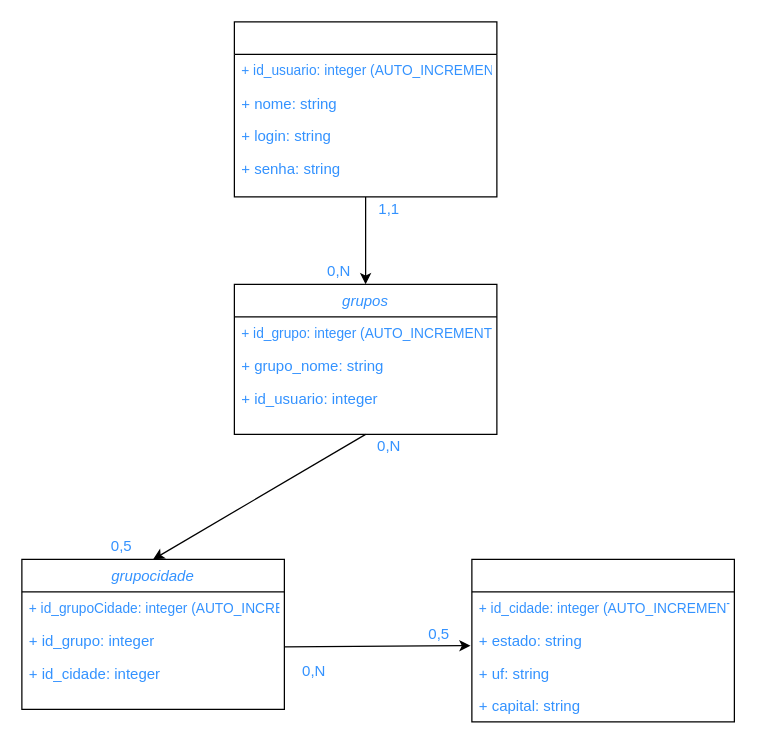
This 769x748 diagram has some shape labels left out. Each missing label, with the box of its shape:
cidades: (471, 558, 734, 722)
usuarios: (233, 21, 497, 197)
